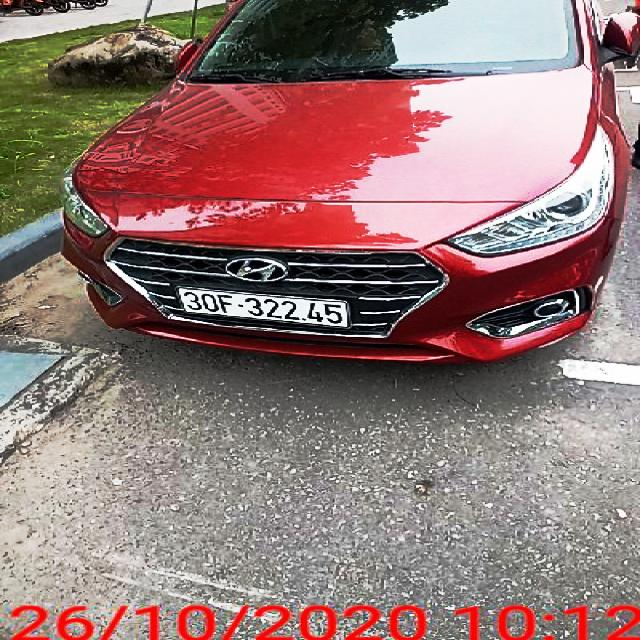license_plate: (181, 286, 350, 327)
